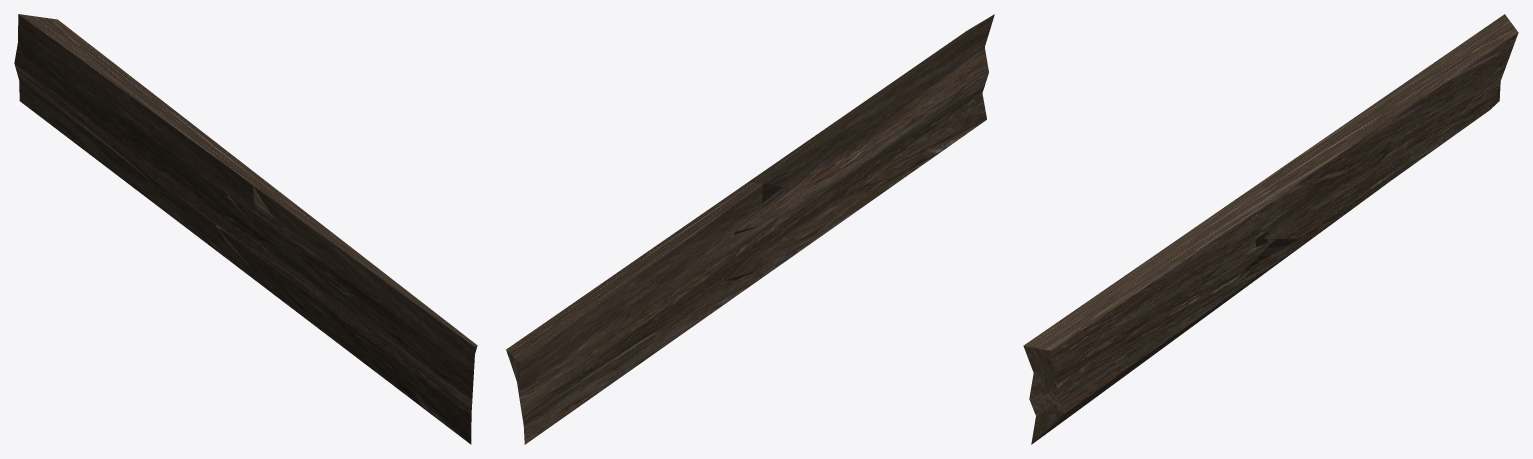
File: tablon madera.fbx
3 views of the same model, side by side, from view 1: azimuth 30°, elevation 25°; view 2: azimuth 150°, elevation 25°; view 3: azimuth 330°, elevation 25° (orthographic).
Parts seen in each view (by area): view 1: Cube_cell.001, Cube_cell; view 2: Cube_cell.001, Cube_cell; view 3: Cube_cell, Cube_cell.001.
Part boxes in pixels (x1,y1,x2,y2): Cube_cell.001: [14, 14, 272, 276]; Cube_cell: [216, 183, 477, 444]; Cube_cell.001: [506, 182, 763, 444]; Cube_cell: [724, 14, 994, 280]; Cube_cell: [1023, 184, 1297, 444]; Cube_cell.001: [1257, 14, 1518, 275].
Size of the model in its own units: 22.45 by 60 by 498.
